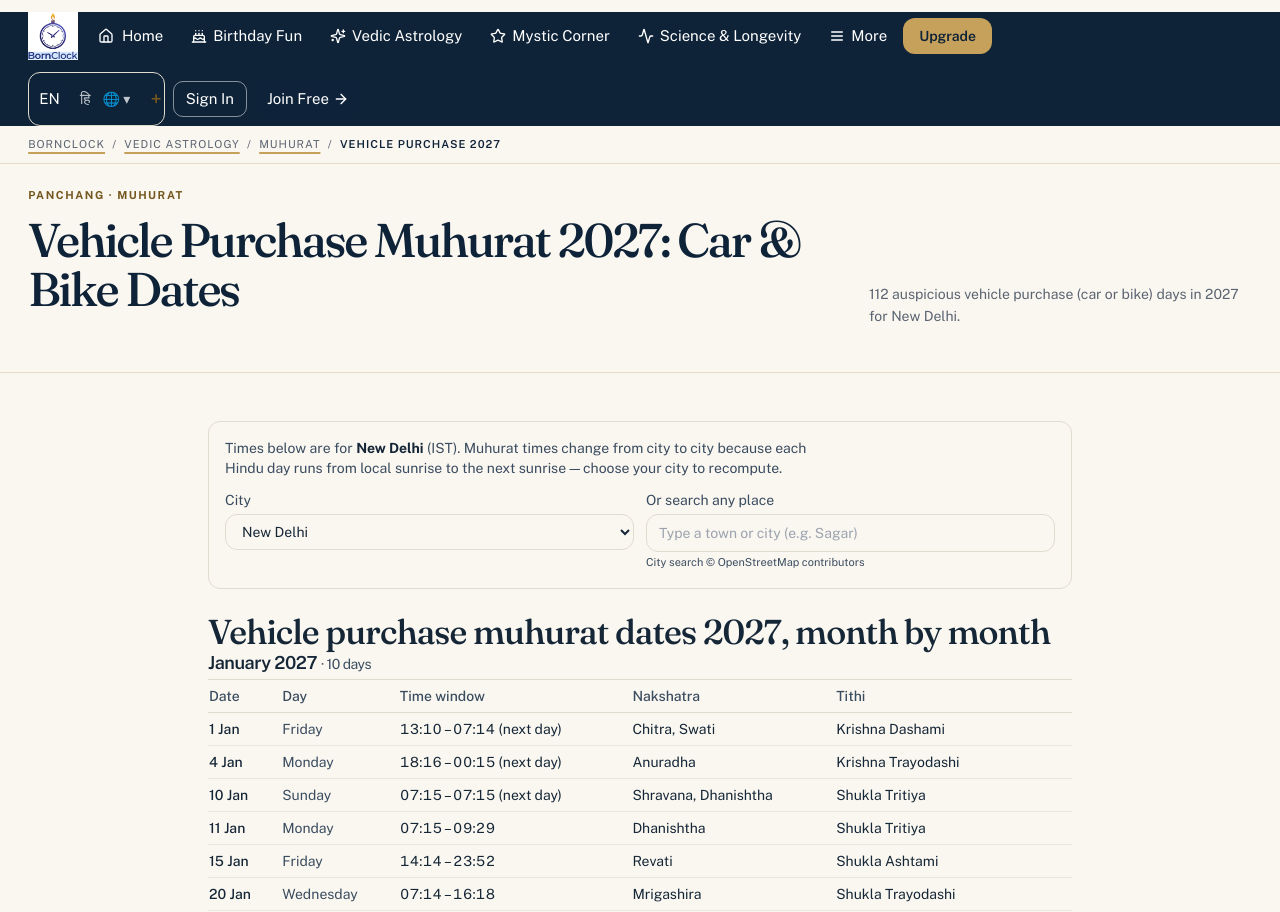
Test: year muhurat pages › choosing another city recomputes the list
Check: the row with test id "muhurat-year-row" that starts with "1 Jan" is shown, box x1=208 y1=712 x2=1072 y2=745
Select "Chennai, Tamil Nadu" in the dropdown with test id "muhurat-year-city-select": (430, 532) x1=225 y1=514 x2=634 y2=550
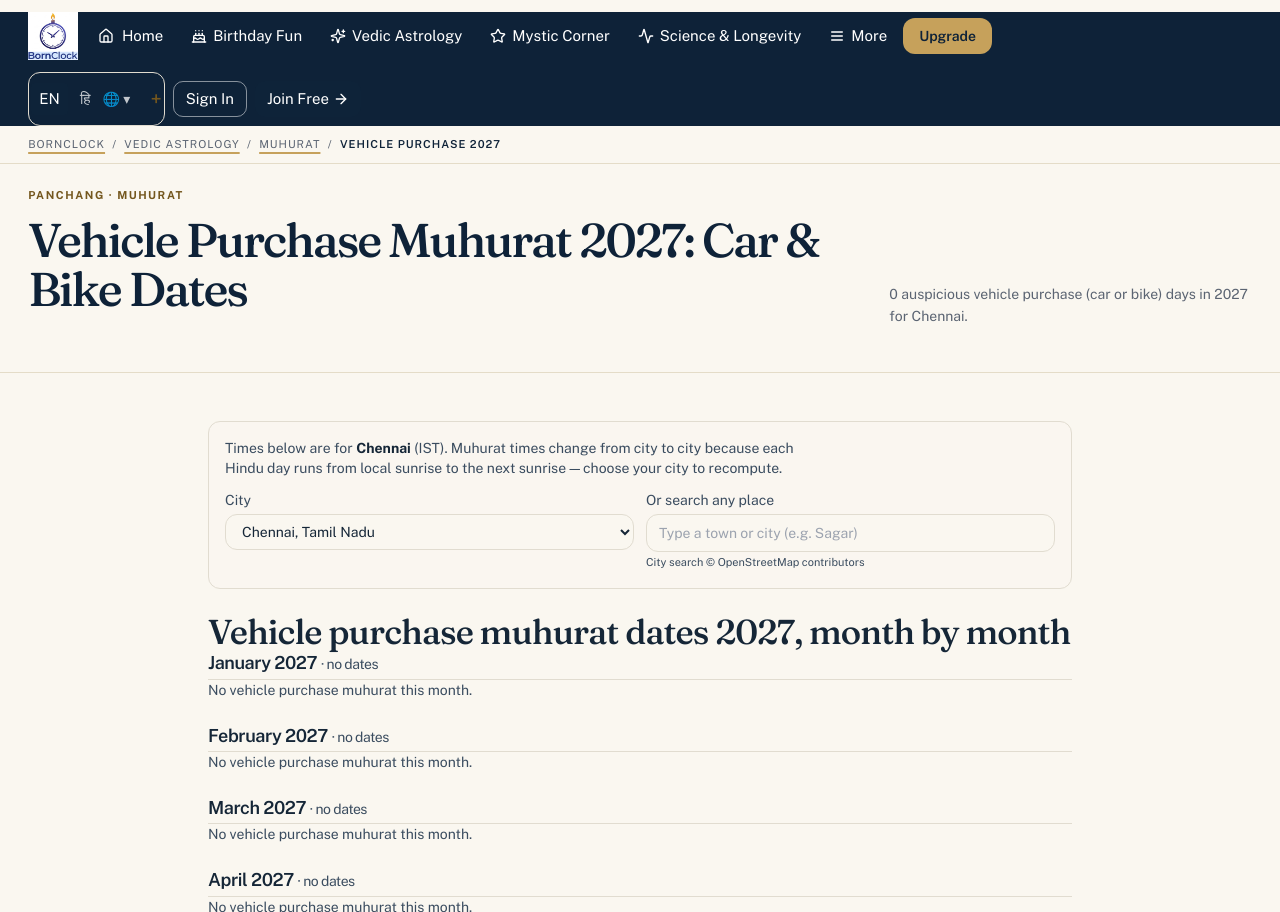
Check: the text with test id "muhurat-year-lead" shows "Chennai", box x1=912 y1=308 x2=964 y2=324
